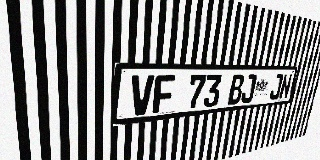3: (203, 74, 222, 108)
7: (186, 74, 206, 110)
B: (227, 74, 245, 105)
F: (152, 75, 175, 113)
J: (240, 74, 257, 103), (269, 74, 284, 100)
N: (278, 74, 293, 99)
V: (130, 75, 154, 116)
